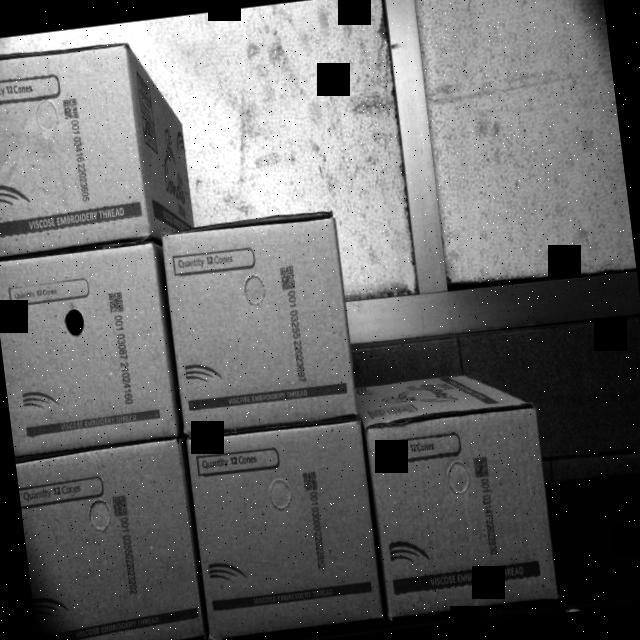box: (160, 218, 359, 438), (188, 420, 380, 638), (364, 404, 556, 621), (14, 439, 203, 640), (0, 239, 177, 449), (0, 44, 152, 250)
